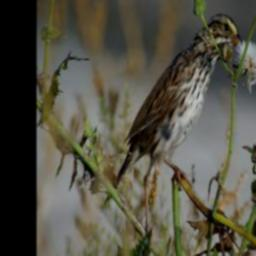Sparrow: (103, 11, 244, 205)
